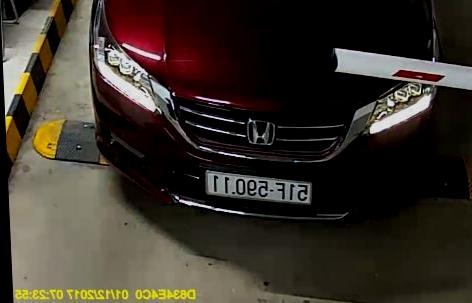License_Plate: (199, 172, 320, 205)
